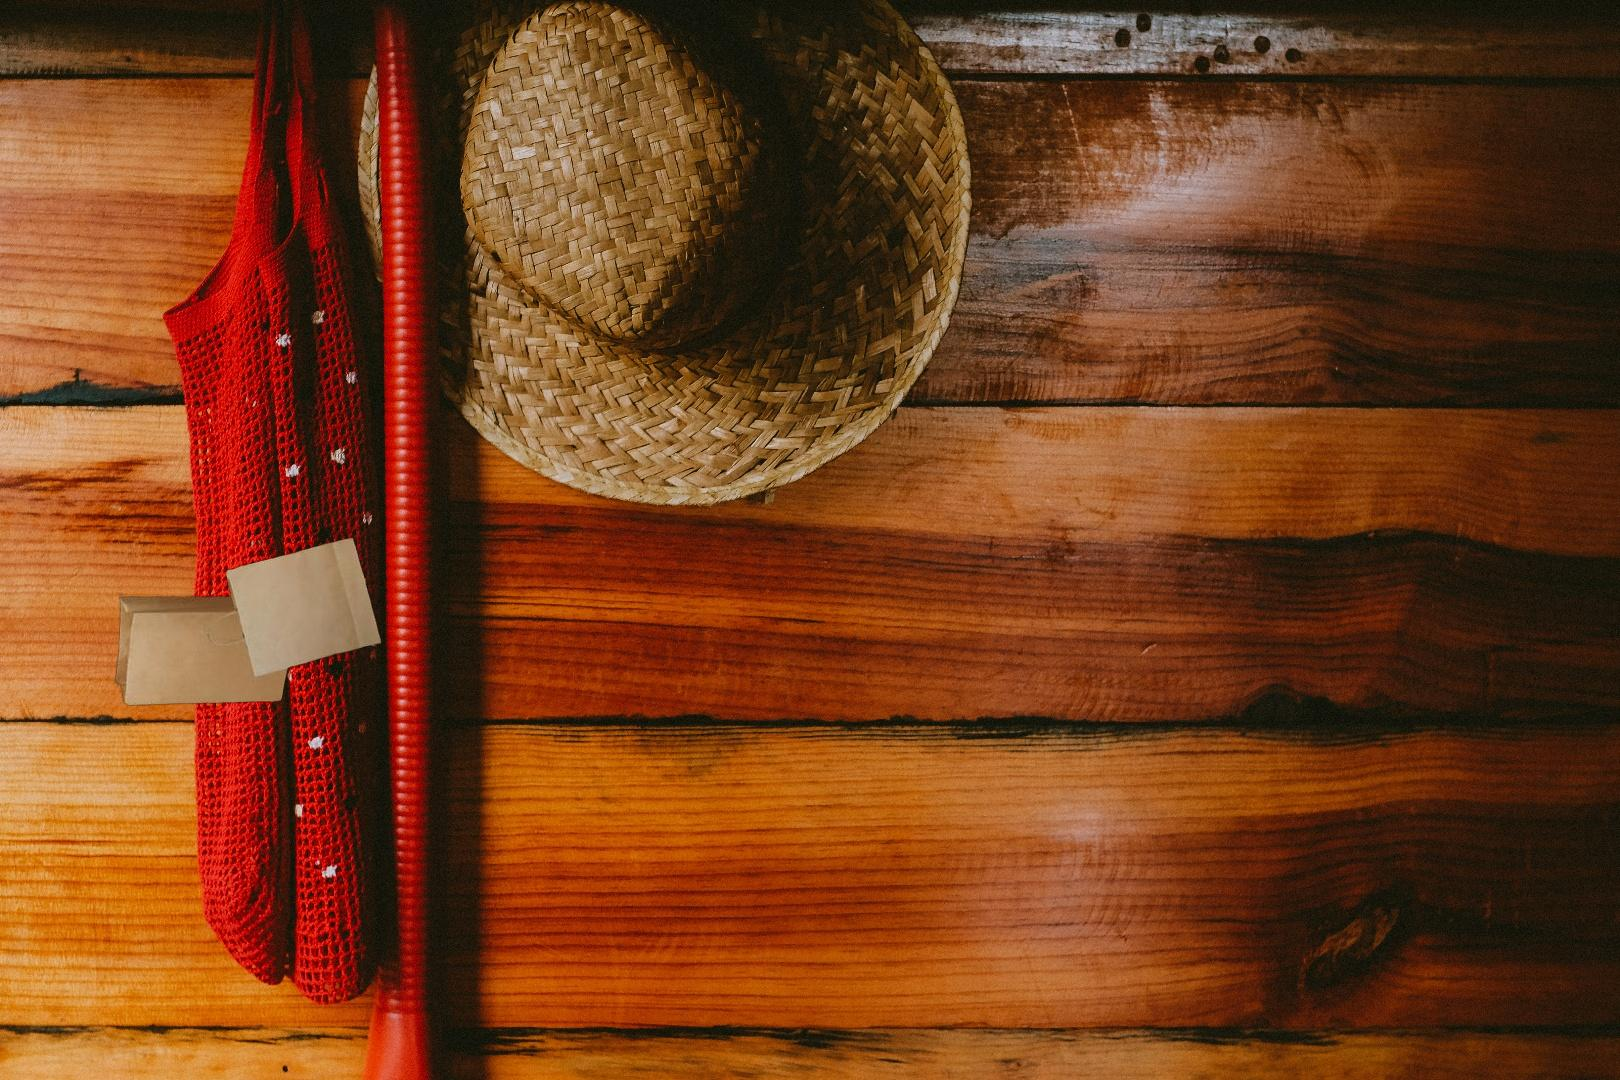paper-bag: (112, 534, 385, 708)
